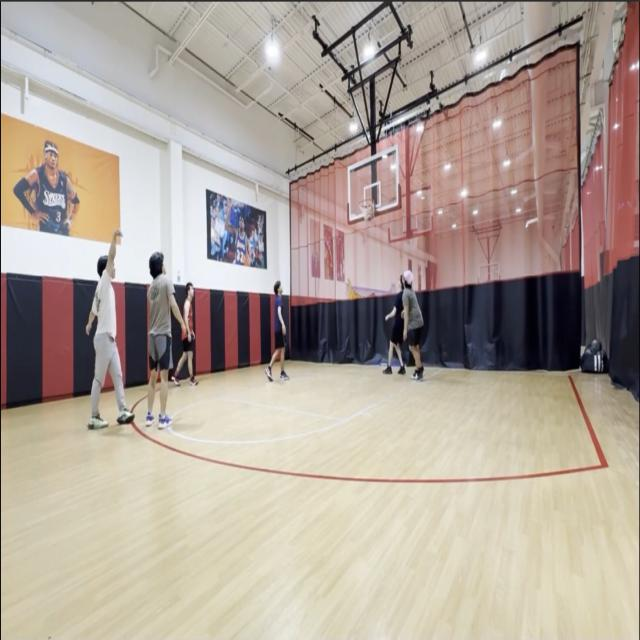Basketball Rim: (358, 199, 375, 221)
